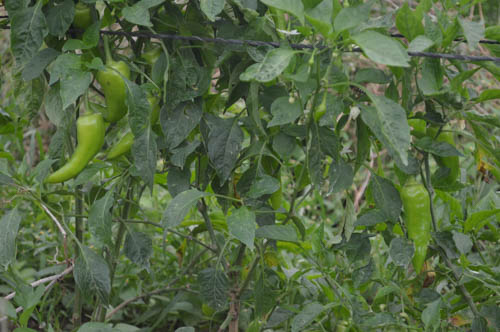ChiliPepper: (43, 117, 104, 192), (400, 185, 432, 269), (100, 64, 135, 124), (110, 129, 135, 163)
